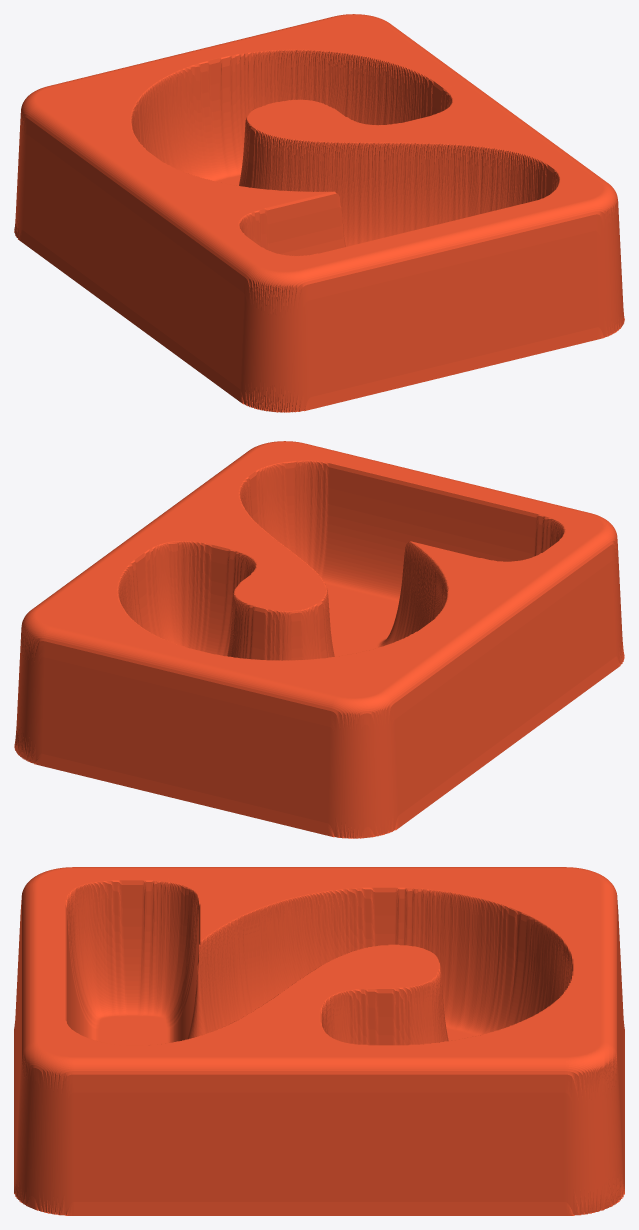
File: mold.glb
3 views of the same model, one above another, from view 1: azimuth 30°, elevation 25°; view 2: azimuth 150°, elevation 25°; view 3: azimuth 270°, elevation 25° (orthographic). The views are drawn at different scales.
Parts seen in each view (by area): view 1: geometry_0; view 2: geometry_0; view 3: geometry_0.
Part boxes in pixels (x1,y1,x2,y2): geometry_0: (14,14,624,412); geometry_0: (14,441,624,838); geometry_0: (14,867,624,1215).
Size of the model in its own units: 0.0746 by 0.0248 by 0.0924.
